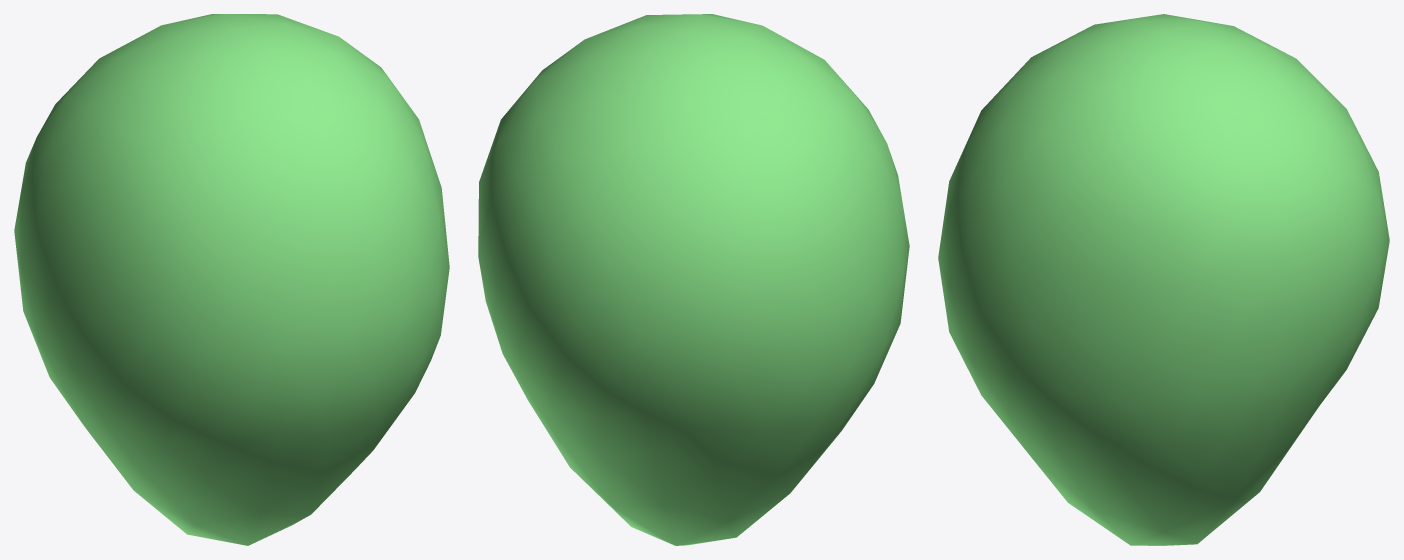
Rendered from Balloon.fbx.
3 renders of one model, left to right at view 1: azimuth 30°, elevation 25°; view 2: azimuth 150°, elevation 25°; view 3: azimuth 270°, elevation 25°, orthographic.
Parts seen in each view (by area): view 1: Baloon; view 2: Baloon; view 3: Baloon.
Boxes of the visible parts, x1,y1,x2,y2 form: Baloon: (14,14,449,545); Baloon: (478,14,909,545); Baloon: (938,14,1389,545).
Bounding box in the file's own units: 60.23 × 79.82 × 63.69.
